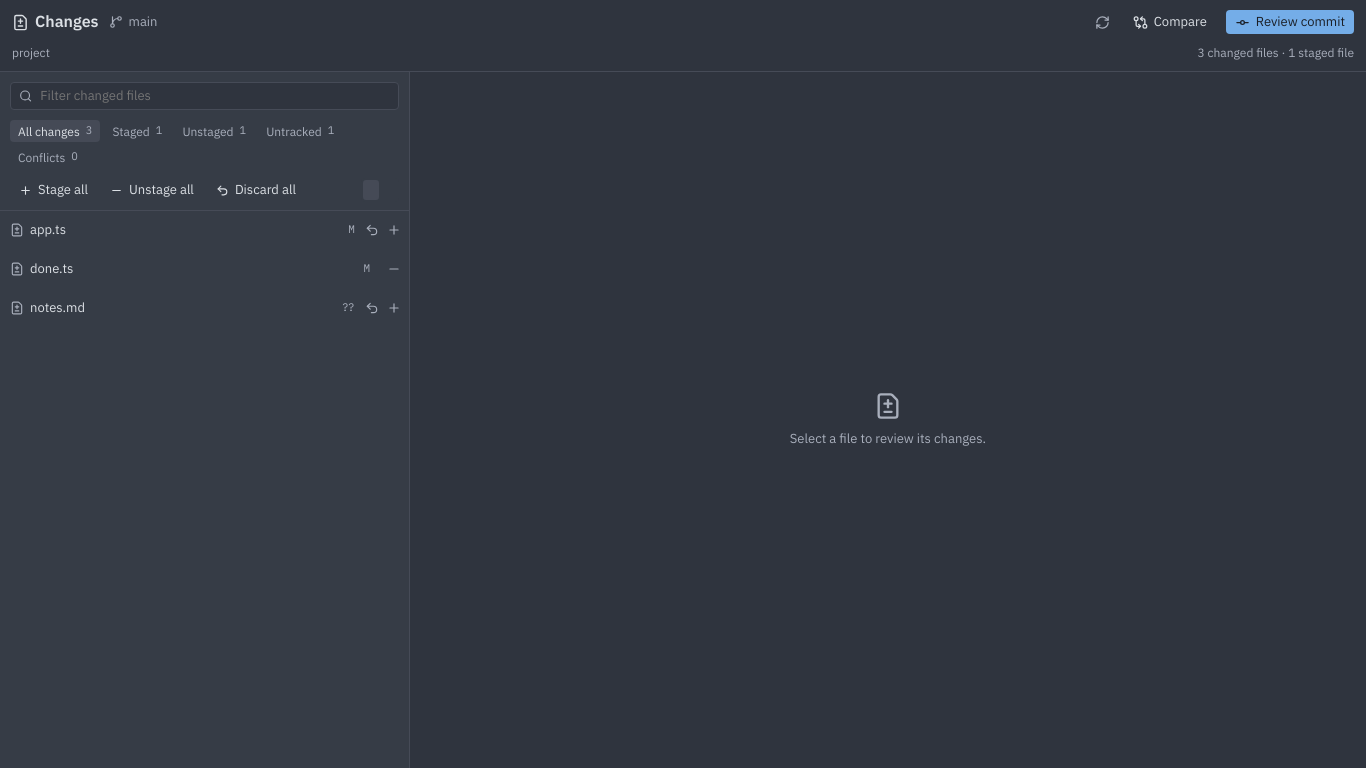
Test: Workspace changes › discards a file only after confirmation, and Discard all covers every unstaged and untracked file
This screenshot has width=1366, height=768.
Click the button named "Discard changes app.ts": {"x": 372, "y": 230} [361,219,383,241]
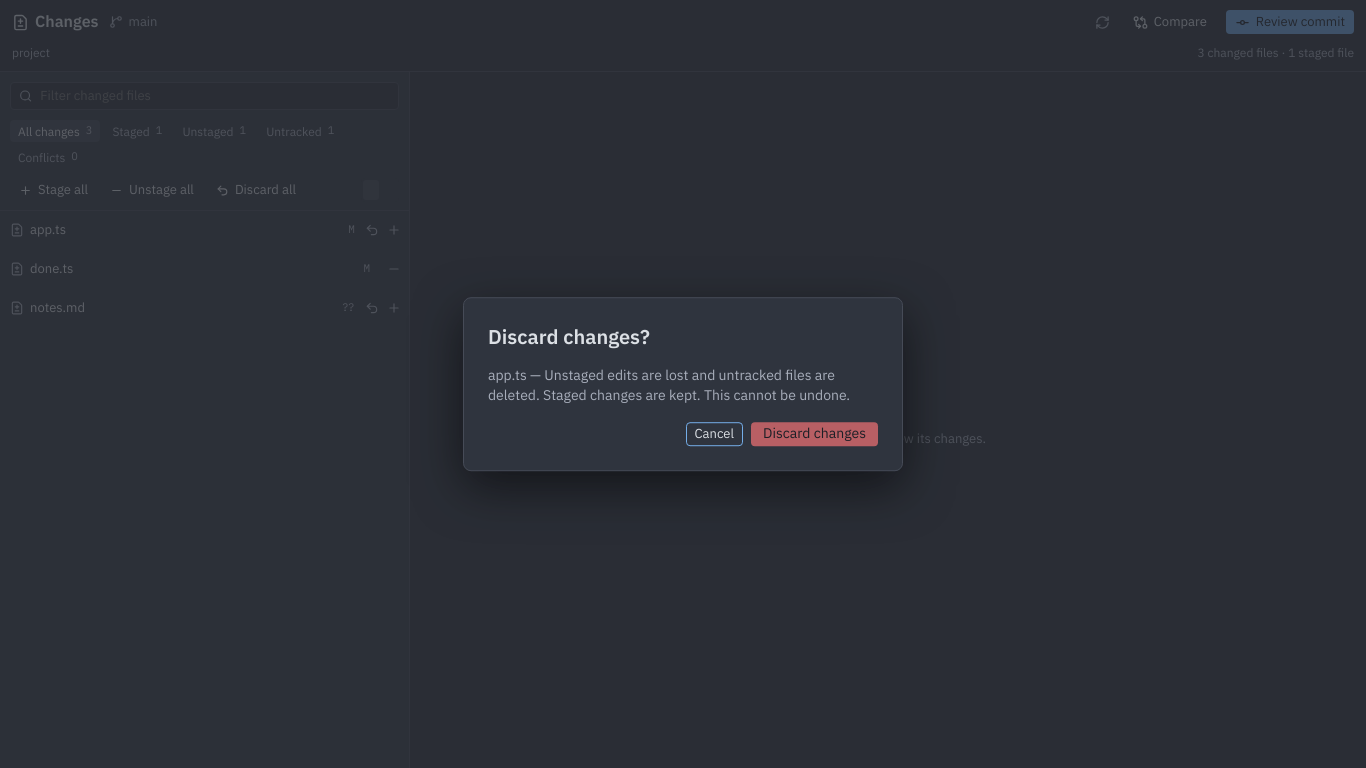
Result: the dialog "Discard changes?" shows "app.ts — Unstaged edits are lost" at [488,366,850,404]
Click the button "Cancel": {"x": 714, "y": 434} [686,422,743,446]
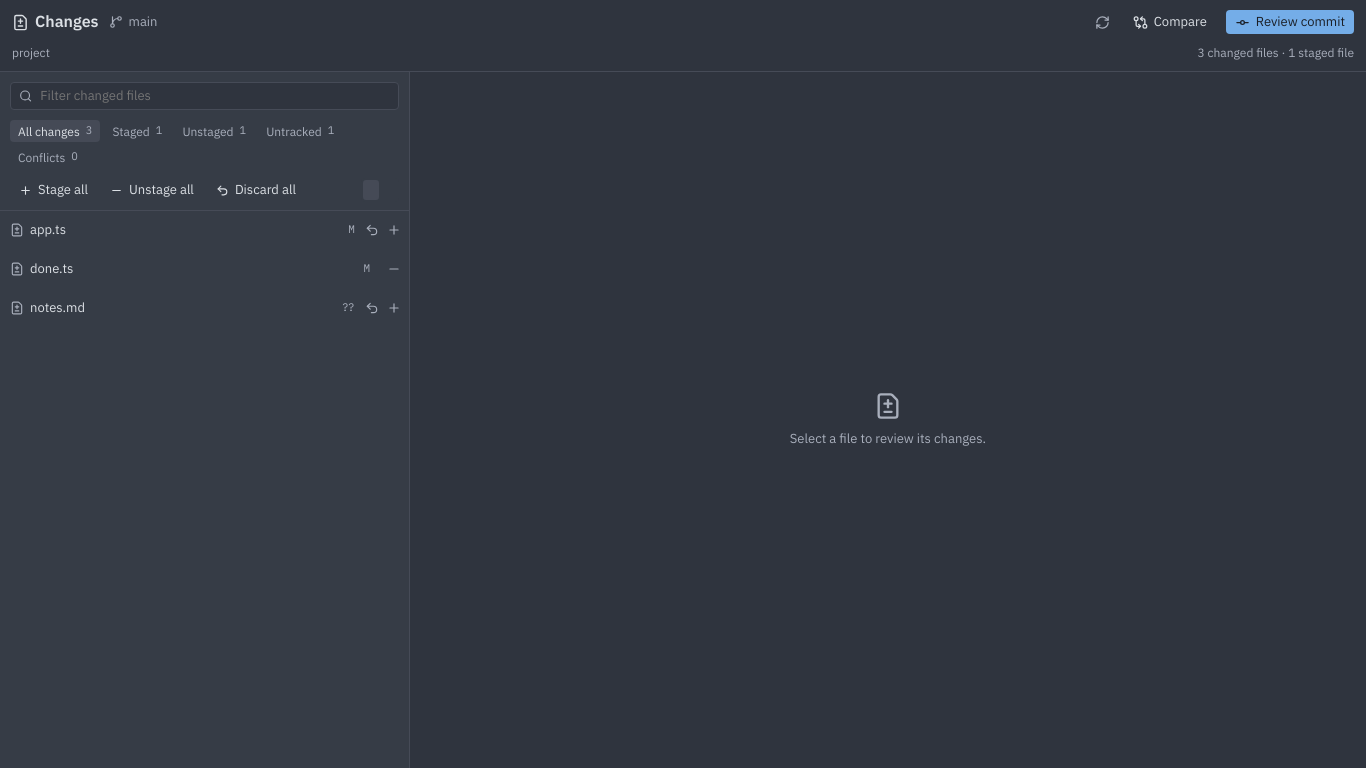
Click the button "Discard all": {"x": 256, "y": 190} [207,178,305,202]
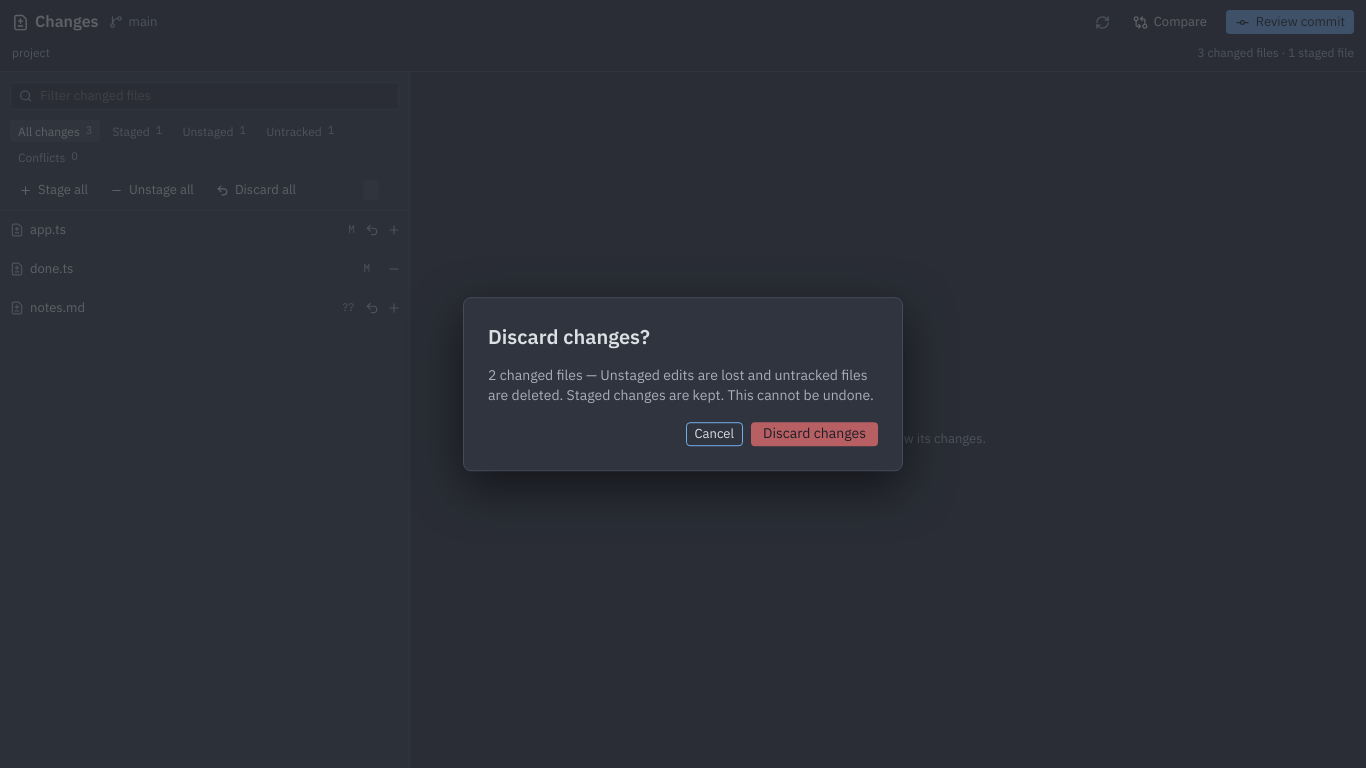
Result: the dialog shows "2 changed files —" at [488,366,874,404]
Click the button "Discard changes": {"x": 814, "y": 434} [751,422,878,446]
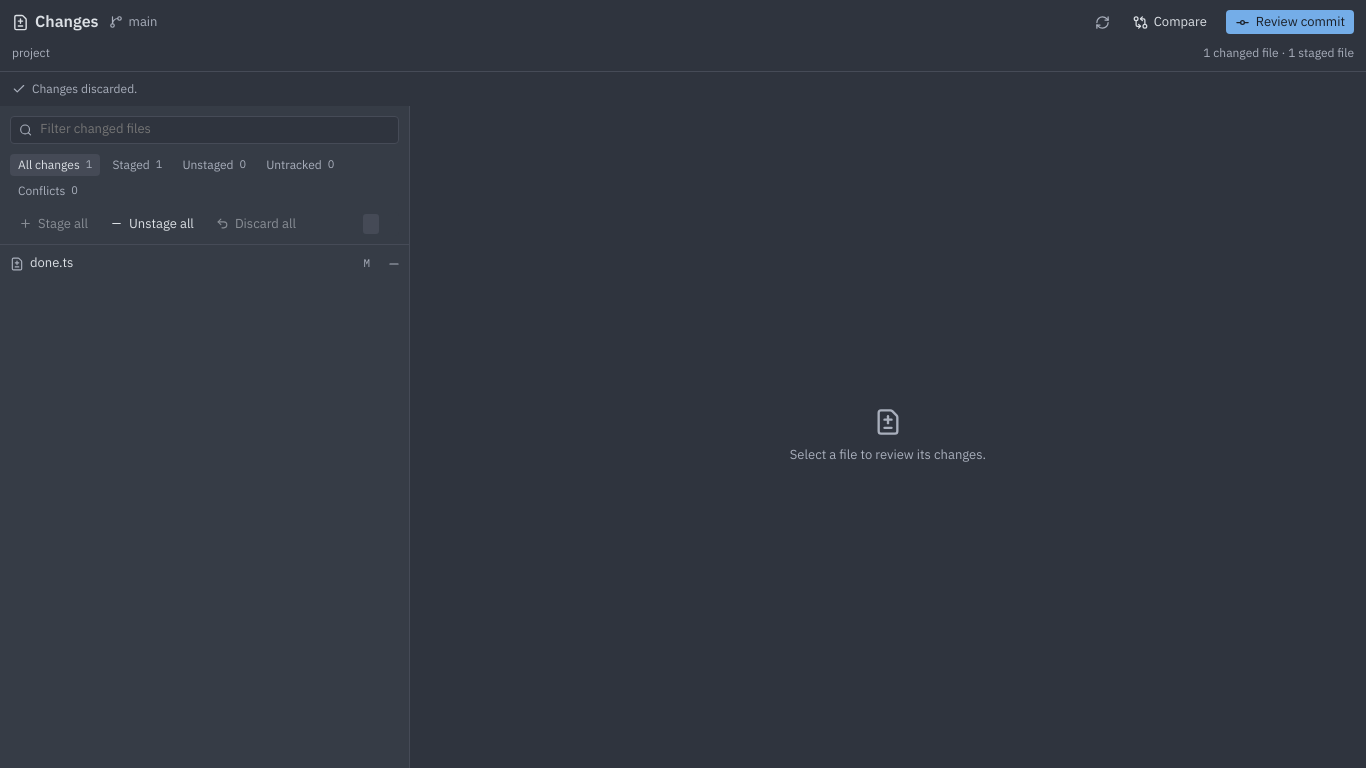
Result: the text "Changes discarded." is shown at [12,81,137,96]
